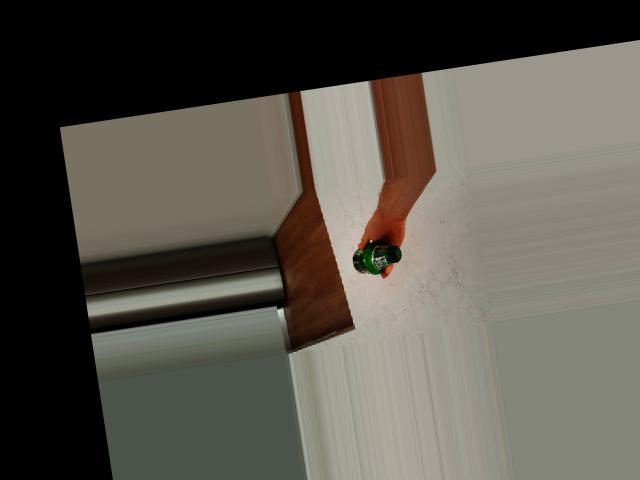beer: (350, 237, 404, 277)
